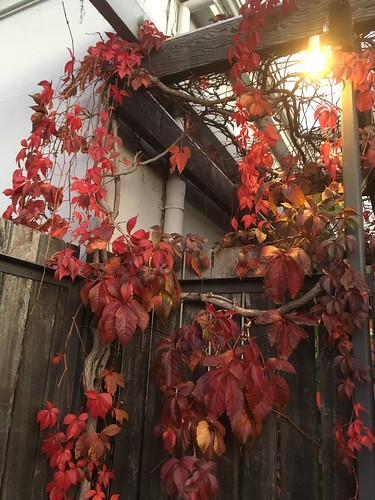vegetation: (19, 11, 375, 500)
wall: (19, 245, 375, 500)
